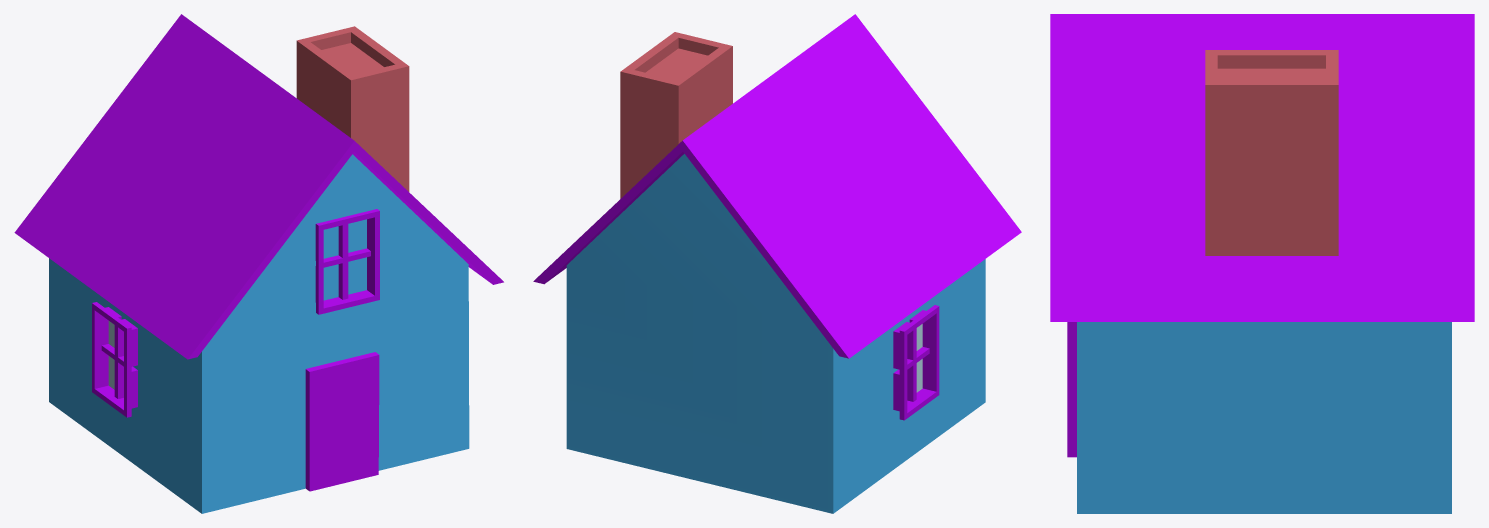
File: House.fbx
3 renders of one model, left to right at view 1: azimuth 30°, elevation 25°; view 2: azimuth 150°, elevation 25°; view 3: azimuth 270°, elevation 25°, orthographic. The views are drawn at different scales.
Parts seen in each view (by area): view 1: Walls, Roof, chimney, Door, Window Left, Window Front; view 2: Walls, Roof, chimney, Window Left; view 3: Roof, Walls, chimney, Door.
Part boxes in pixels (box(x1,y1,x2,y2)): Walls: box(49, 154, 469, 513); Roof: box(14, 14, 503, 359); chimney: box(296, 26, 409, 191); Door: box(305, 352, 379, 491); Window Left: box(92, 302, 137, 417); Window Front: box(315, 209, 379, 314); Walls: box(566, 154, 985, 513); Roof: box(533, 14, 1021, 358); chimney: box(620, 32, 732, 198); Window Left: box(893, 305, 939, 420); Roof: box(1050, 14, 1474, 321); Walls: box(1077, 322, 1451, 513); chimney: box(1205, 50, 1338, 255); Door: box(1067, 322, 1076, 457).
Bounding box in the file's own units: 1031 × 1077 × 976.
